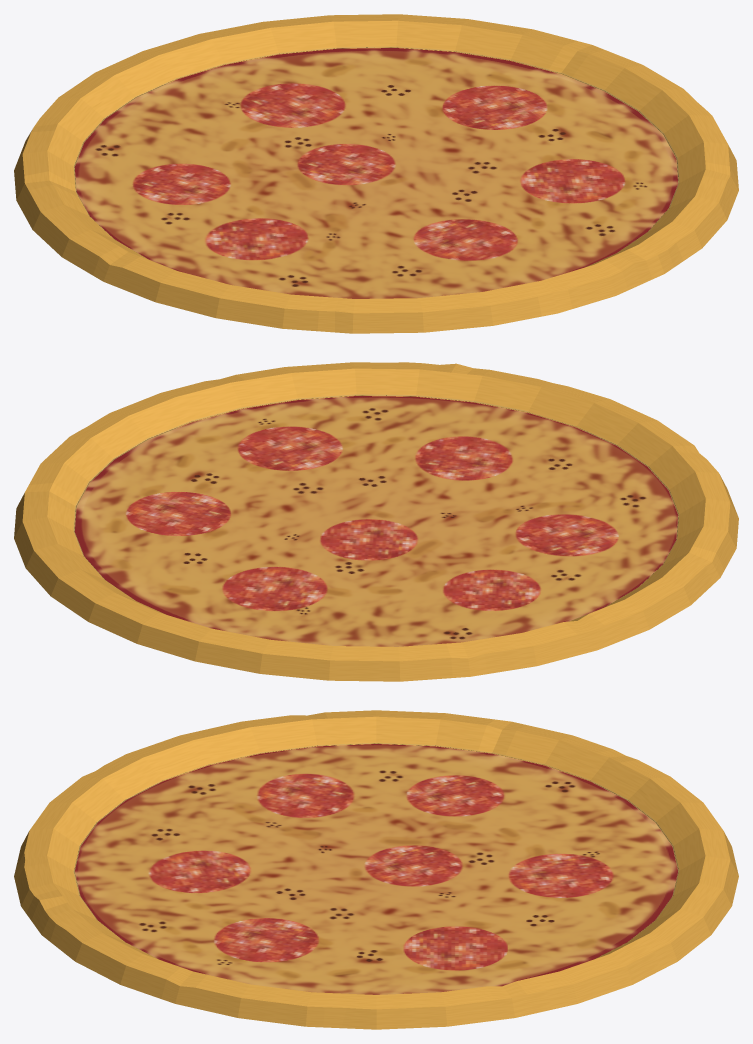
Rendered from WorldItem_PizzaEtna.fbx.
3 views of the same model, one above another, from view 1: azimuth 30°, elevation 25°; view 2: azimuth 150°, elevation 25°; view 3: azimuth 270°, elevation 25° (orthographic).
Visible parts, largest first — view 1: Pizza; view 2: Pizza; view 3: Pizza.
Boxes of the visible parts, bbox=[...] form: Pizza: bbox=[14, 14, 738, 333]; Pizza: bbox=[14, 362, 738, 681]; Pizza: bbox=[14, 710, 738, 1029].
Bounding box in the file's own units: 45.79 × 2.22 × 45.79.
